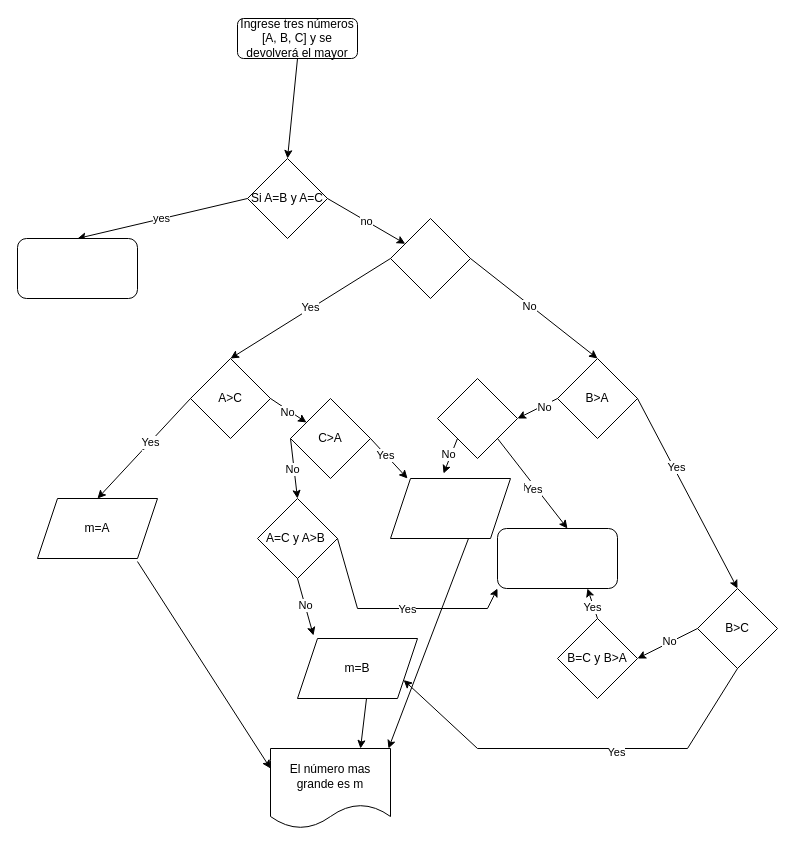
Image size: 795x846. Some labels were removed from this diagram. The box of each missing label's shape, as (x1, y1, x2, y2) in pixels:
A=B y A>C: (436, 378, 518, 458)
A>B: (390, 218, 470, 298)
Hay más de un número mayor: (496, 528, 618, 588)
m=C: (390, 478, 510, 538)
Todos los números son iguales: (16, 238, 138, 298)
